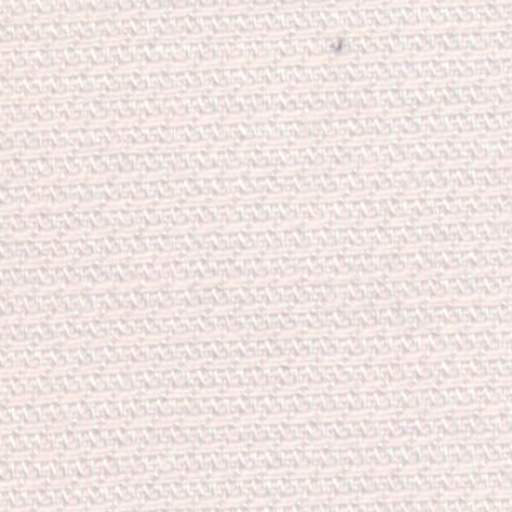WuZi: (314, 27, 360, 68)
